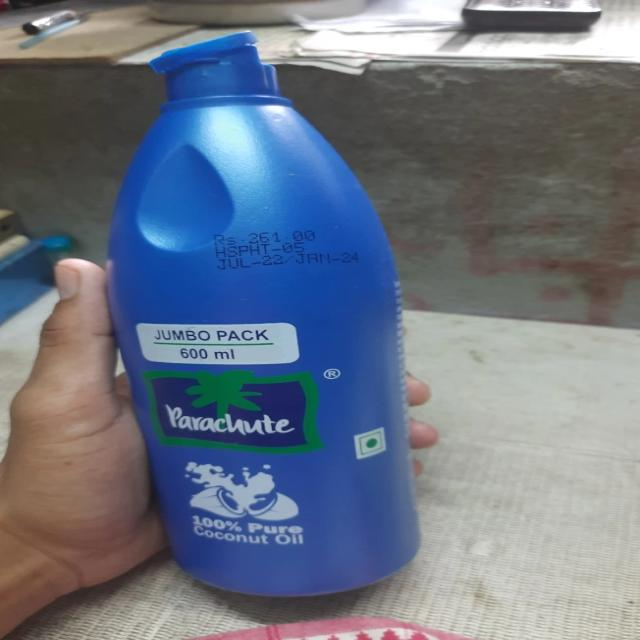parachute_oil: (94, 36, 425, 602)
